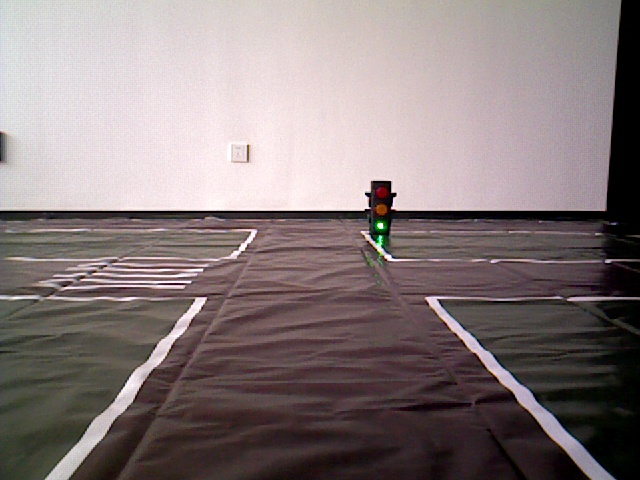green: (370, 183, 393, 231)
